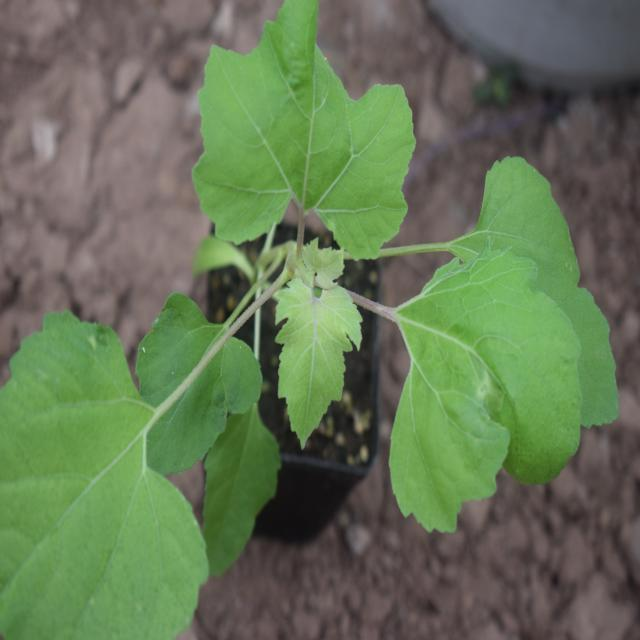cocklebur: (0, 55, 570, 569)
